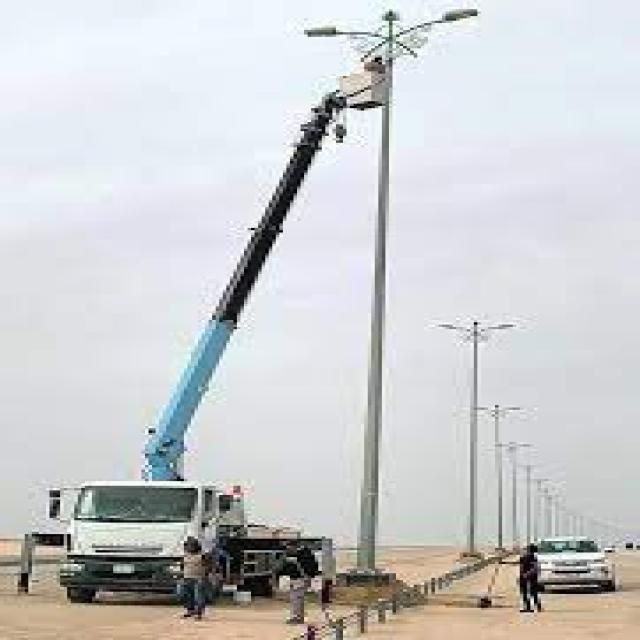Street Light: (300, 7, 481, 578), (438, 318, 513, 557), (474, 403, 520, 550)
